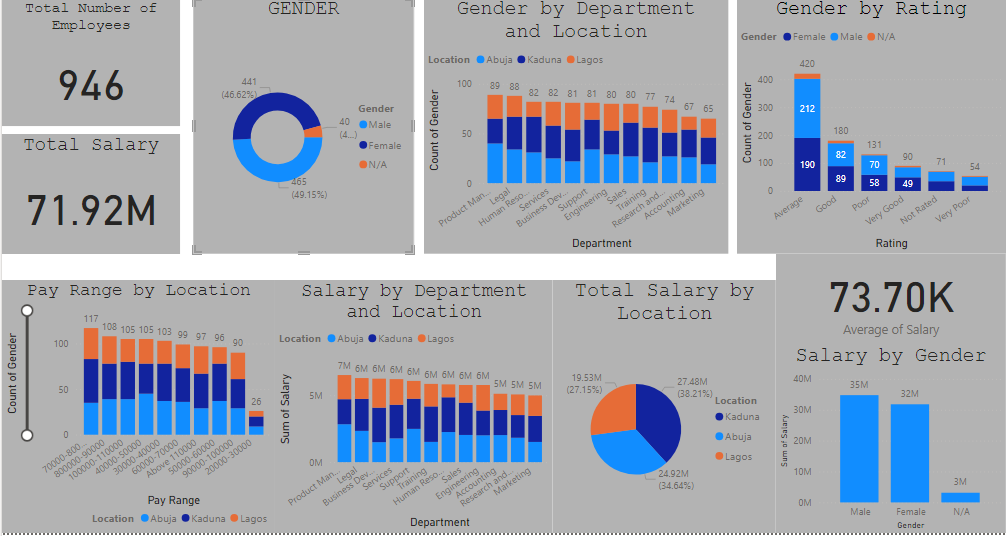

The dashboard page shown, as its layout file describes it:
{"tool":"powerbi","page":{"name":"Page 1","canvas":[1280,720],"ordinal":0},"visuals":[{"type":"donutChart","title":"GENDER","fields":{"Y":["CountNonNull(Palmoria Group emp-data.Gender)"],"Category":["Palmoria Group emp-data.Gender"]},"box":[243.5,38.2,281.8,326.4],"z":0},{"type":"columnChart","title":" Gender by Department and Location","fields":{"Category":["Palmoria Group emp-data.Department"],"Y":["CountNonNull(Palmoria Group emp-data.Gender)"],"Series":["Palmoria Group emp-data.Location"]},"box":[538,38.2,387.6,326.4],"z":1000},{"type":"columnChart","title":"Gender by Rating ","fields":{"Category":["Palmoria Group emp-data.Rating"],"Y":["CountNonNull(Palmoria Group emp-data.Gender)"],"Series":["Palmoria Group emp-data.Gender"]},"box":[937.1,38.2,342.9,326.4],"z":2000},{"type":"columnChart","title":"Salary by Gender","fields":{"Y":["Sum(Palmoria Group emp-data.Salary)"],"Category":["Palmoria Group emp-data.Gender"]},"box":[986.8,493.4,293.2,226.9],"z":4000},{"type":"columnChart","title":"Salary by Department and Location","fields":{"Category":["Palmoria Group emp-data.Department"],"Y":["Sum(Palmoria Group emp-data.Salary)"],"Series":["Palmoria Group emp-data.Location"]},"box":[348,423.3,354.4,297.1],"z":5000},{"type":"card","fields":{"Values":["Avg(Palmoria Group emp-data.Salary)"]},"box":[1053.1,364.6,226.9,116],"z":6000},{"type":"pieChart","title":"Total Salary by Location","fields":{"Y":["Sum(Merge1.Total Salary)"],"Category":["Merge1.Location"]},"box":[702.5,423.3,284.3,297.1],"z":7000},{"type":"card","title":"Total Salary","fields":{"Values":["Sum(Merge1.Total Salary)"]},"box":[0,211.6,226.9,153],"z":8000},{"type":"card","title":"Total Number of Employees","fields":{"Values":["CountNonNull(Merge1.Name)"]},"box":[0,39.5,226.9,161.9],"z":9000},{"type":"columnChart","title":"Pay Range by Location","fields":{"Y":["CountNonNull(Palmoria Group emp-data with Bonus Rules.Gender)"],"Category":["Palmoria Group emp-data with Bonus Rules.Pay Range"],"Series":["Palmoria Group emp-data with Bonus Rules.Location"]},"box":[0,423.3,348,297.1],"z":10000}]}

Visuals, with their boxes on the page's 1280x720 design canvas (x1, y1, x2, y2). These are canvas units, not pixel positions in the 1006x536 screenshot, which may show the page scaled, cropped or inside an application window:
"GENDER" donutChart: locate(244, 38, 525, 365)
" Gender by Department and Location" columnChart: locate(538, 38, 926, 365)
"Gender by Rating " columnChart: locate(937, 38, 1280, 365)
"Salary by Gender" columnChart: locate(987, 493, 1280, 720)
"Salary by Department and Location" columnChart: locate(348, 423, 702, 720)
card - Avg(Palmoria Group emp-data.Salary): locate(1053, 365, 1280, 481)
"Total Salary by Location" pieChart: locate(702, 423, 987, 720)
"Total Salary" card: locate(0, 212, 227, 365)
"Total Number of Employees" card: locate(0, 40, 227, 201)
"Pay Range by Location" columnChart: locate(0, 423, 348, 720)
